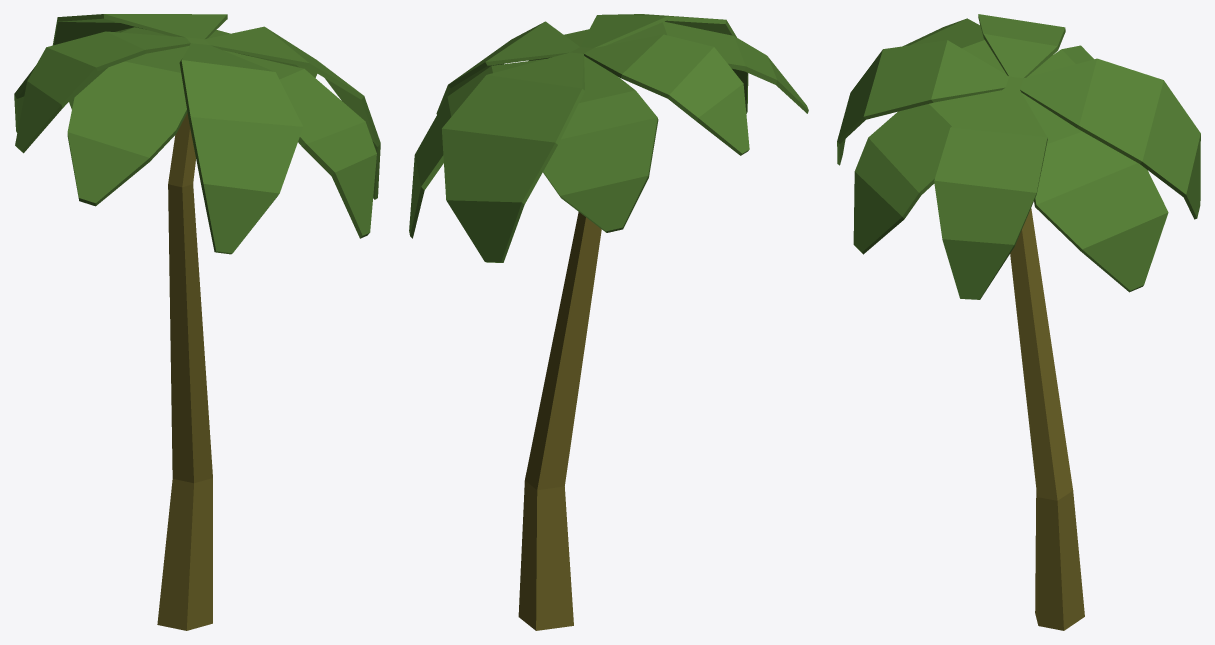
Rendered from Palm_2_low.fbx.
3 views of the same model, side by side, from view 1: azimuth 30°, elevation 25°; view 2: azimuth 150°, elevation 25°; view 3: azimuth 270°, elevation 25° (orthographic). The views are drawn at different scales.
Parts seen in each view (by area): view 1: Palm_2_low; view 2: Palm_2_low; view 3: Palm_2_low.
Part boxes in pixels (bbox=[...]): Palm_2_low: bbox=[14, 14, 380, 630]; Palm_2_low: bbox=[409, 14, 808, 630]; Palm_2_low: bbox=[837, 14, 1200, 630].
Size of the model in its own units: 2.28 by 4.01 by 2.4.
